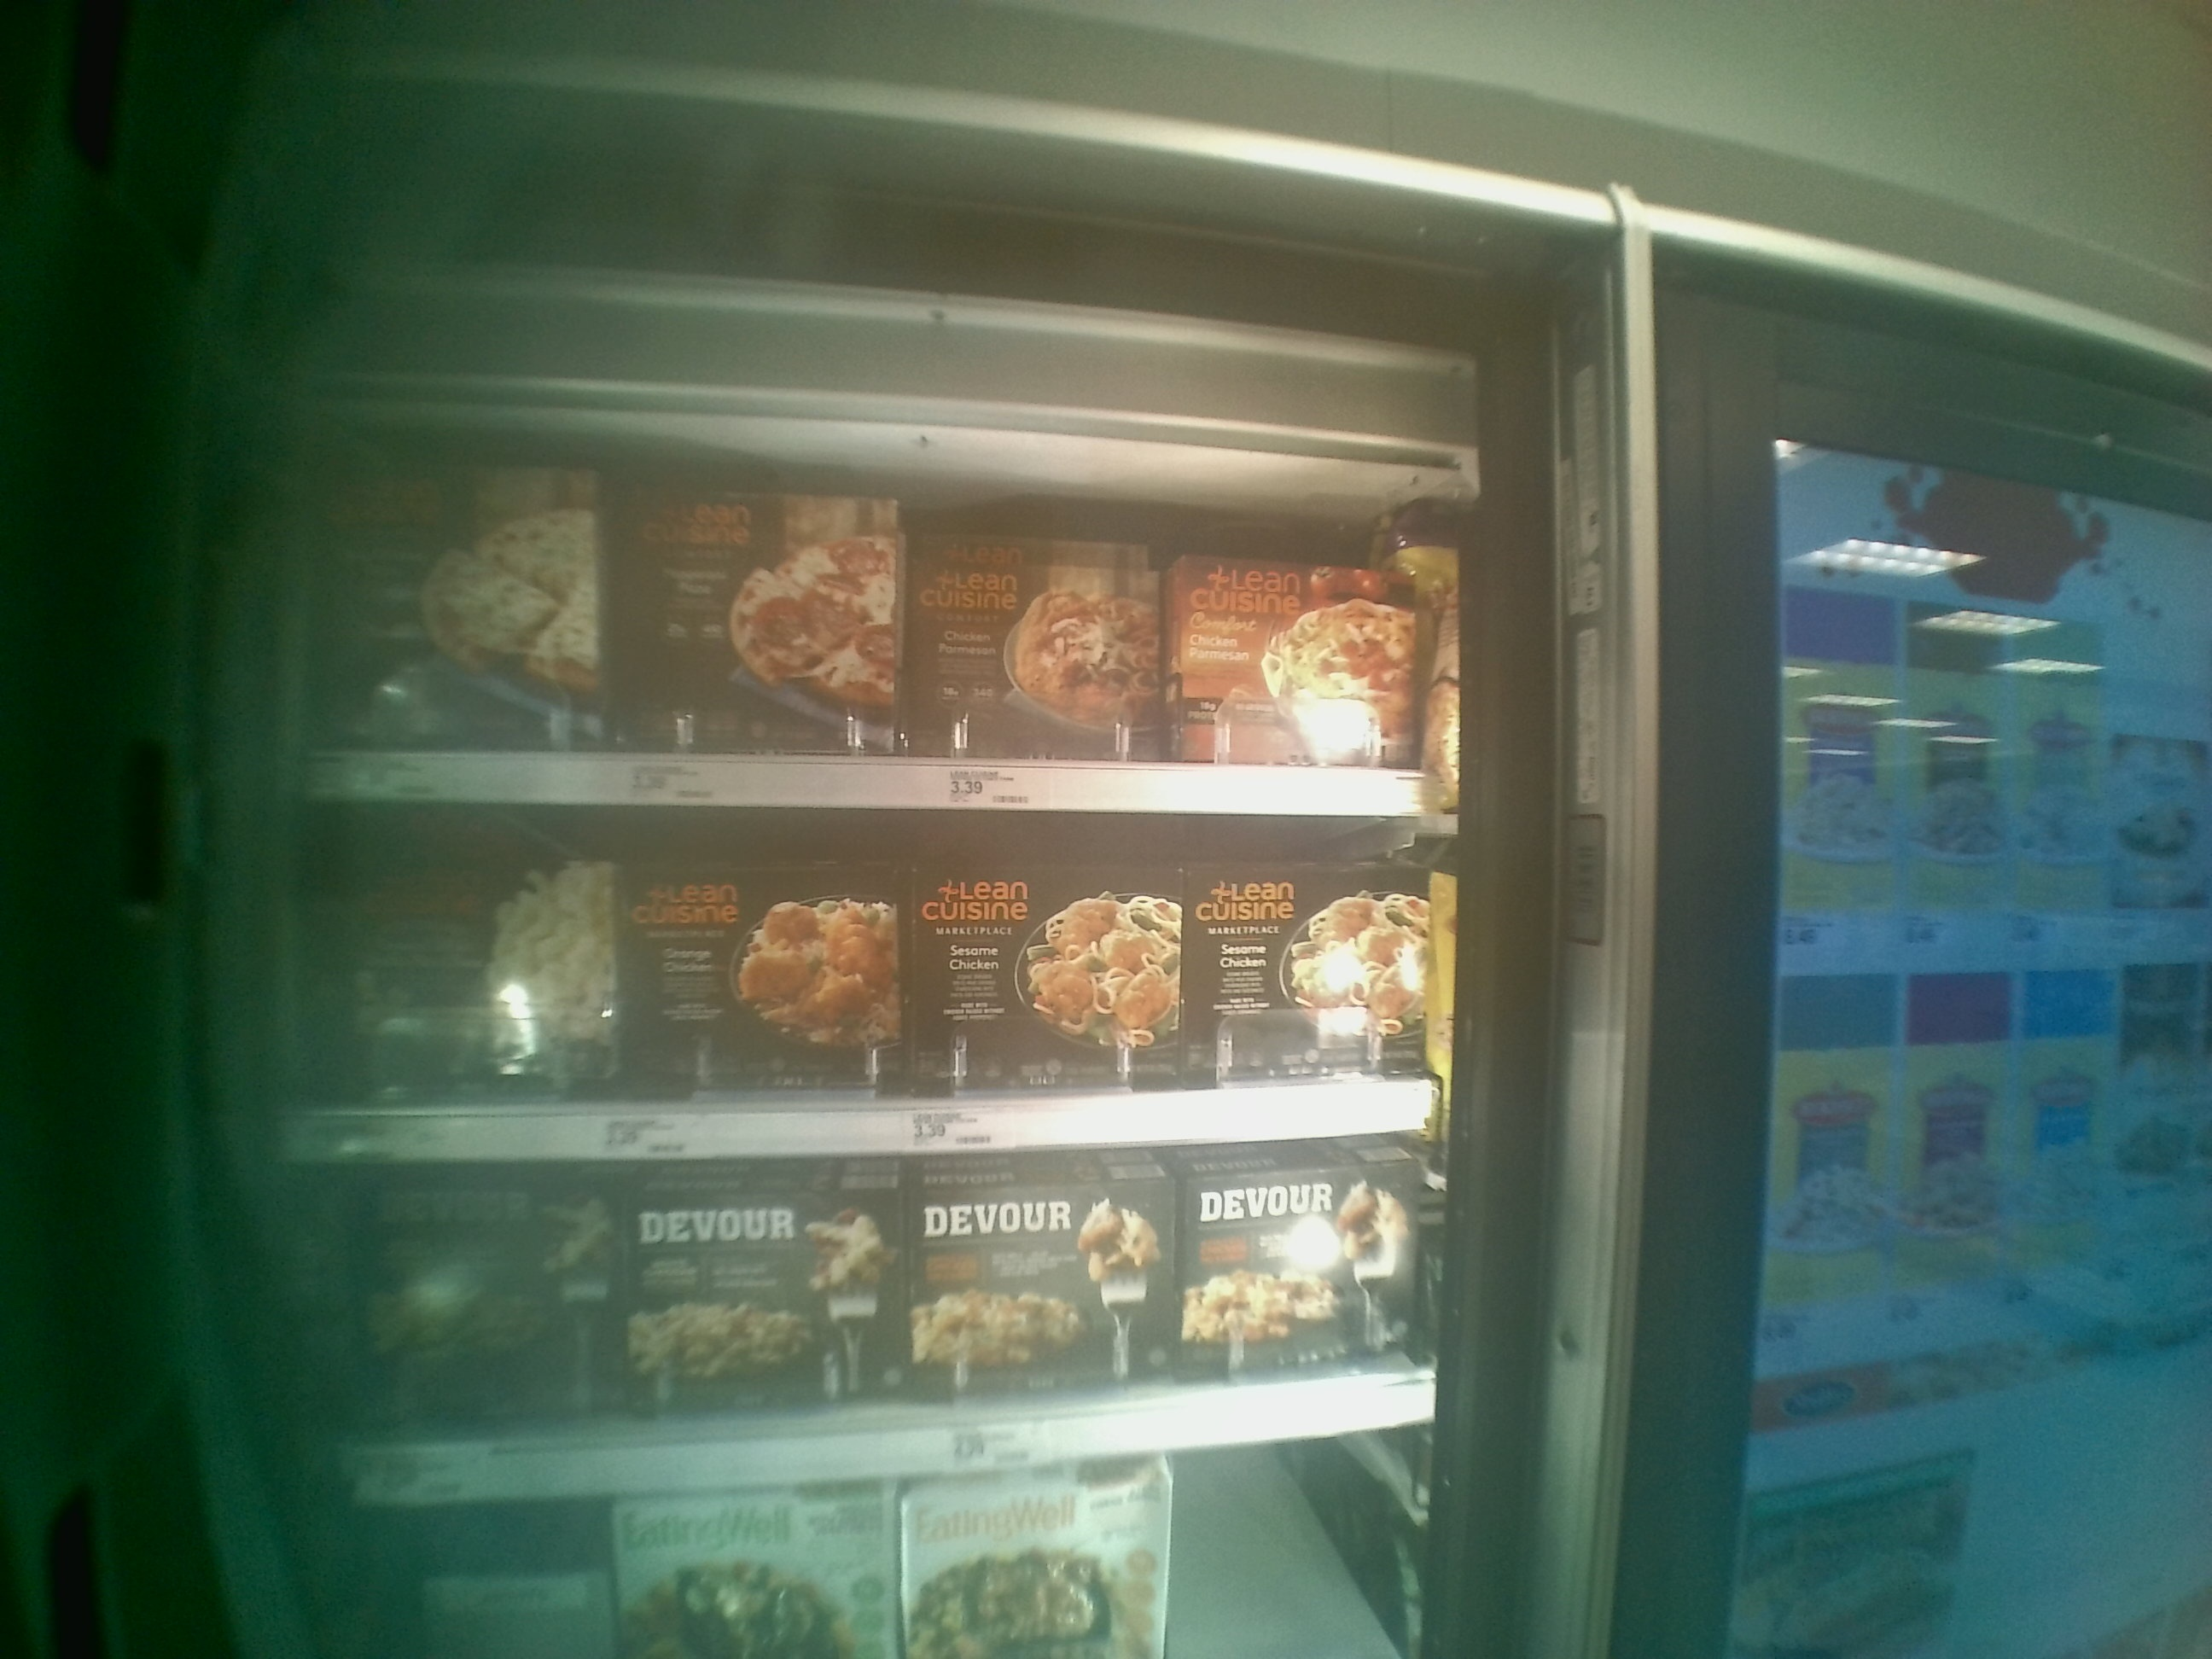shelf: (303, 380, 1456, 809), (294, 1122, 1446, 1514), (296, 791, 1465, 1161)
